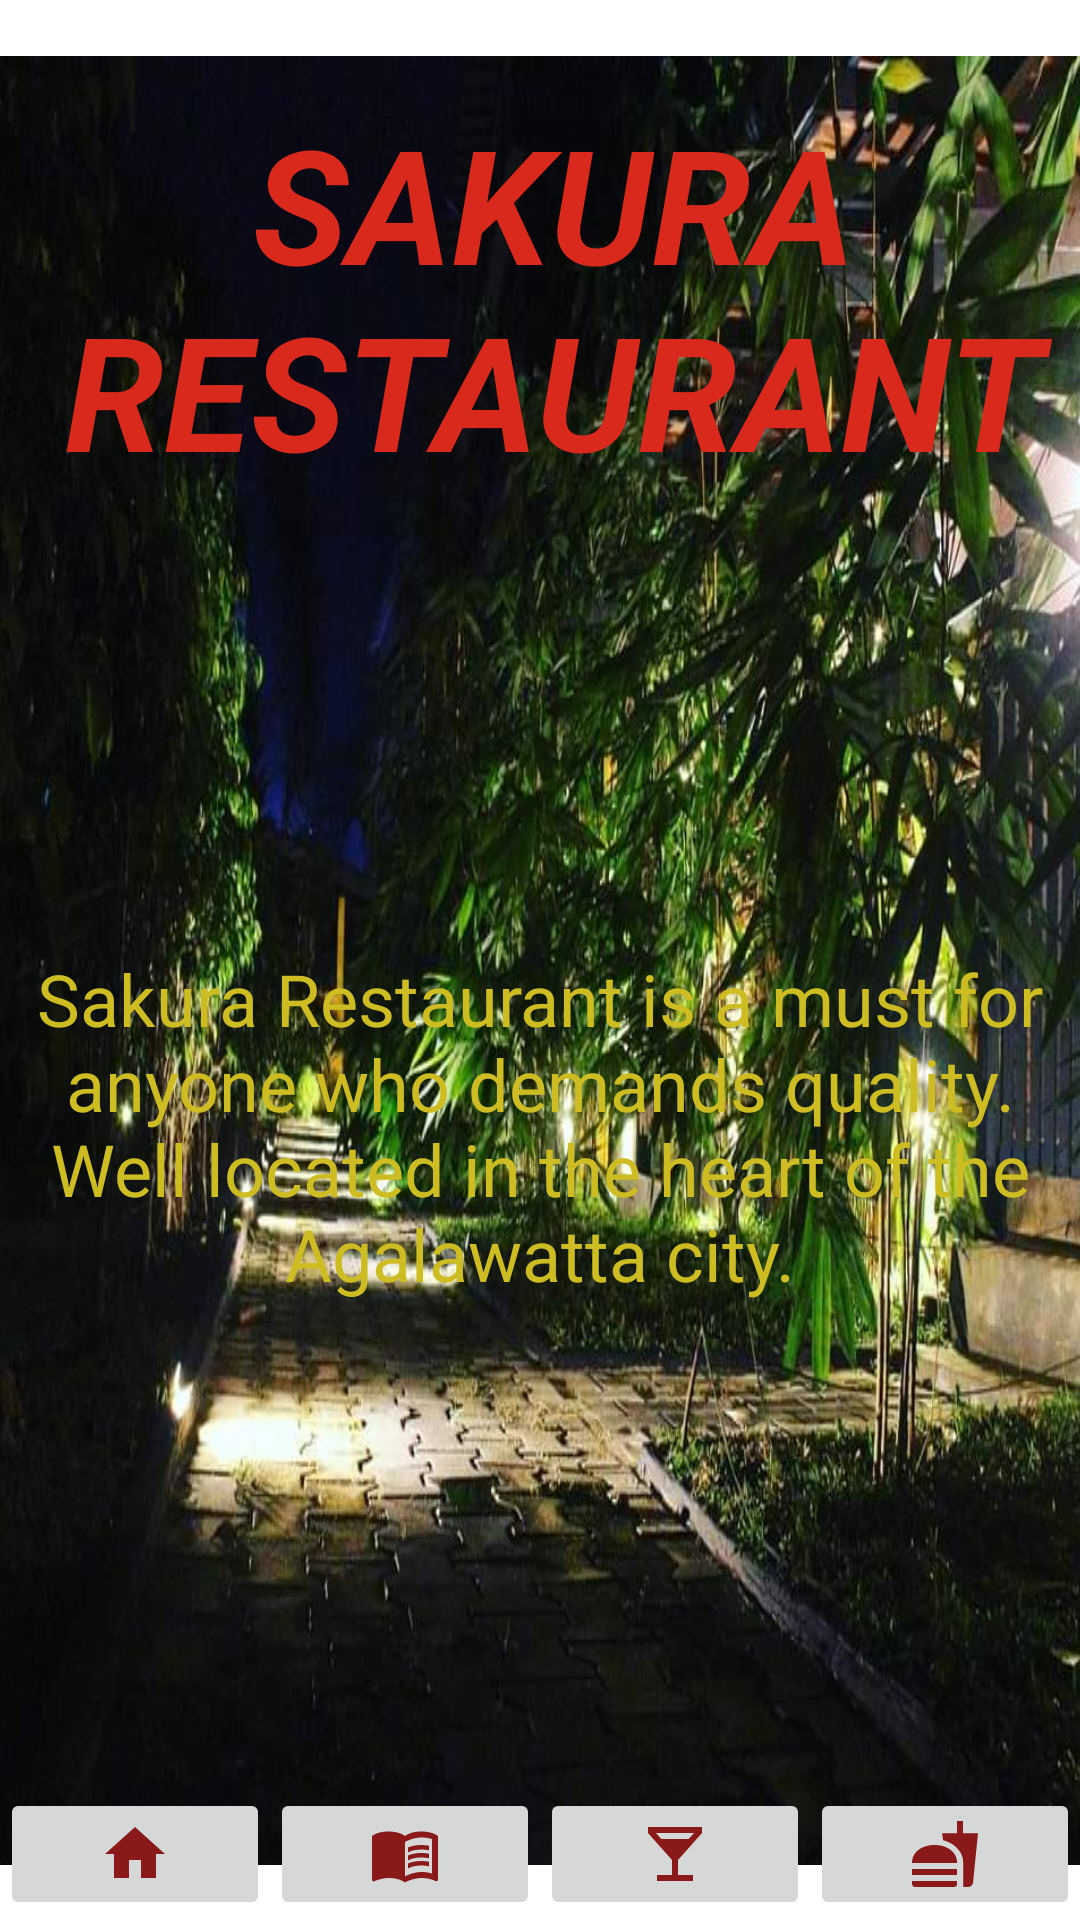

Named icons in this screenshot (1080 x 1920) and their bounding boxes, bbox=[x1, y1, x2, y2]:
book: bbox=[270, 1806, 540, 1920]
fastfood: bbox=[810, 1806, 1080, 1920]
home: bbox=[0, 1806, 270, 1920]
local bar: bbox=[540, 1806, 810, 1920]
